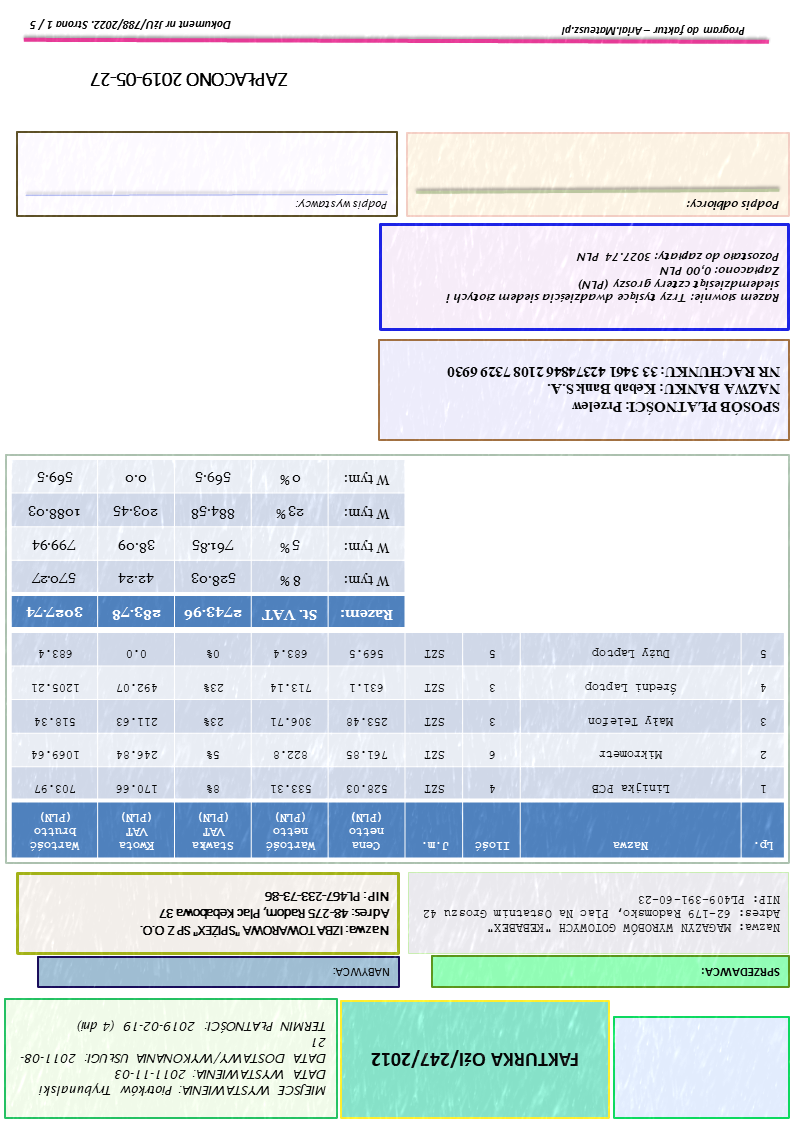Table: (11, 632, 786, 861), (11, 459, 406, 628)
TextBox: (19, 1018, 331, 1100), (442, 249, 782, 306), (446, 363, 782, 418), (422, 892, 783, 935), (140, 889, 393, 938), (369, 1048, 582, 1070), (87, 70, 291, 92), (28, 17, 234, 33), (558, 23, 750, 39), (686, 197, 783, 213), (700, 963, 783, 980), (295, 198, 389, 212), (332, 963, 394, 981)
